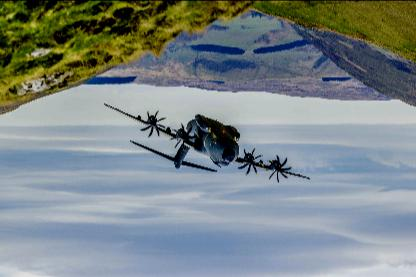A400M: (105, 104, 311, 182)
